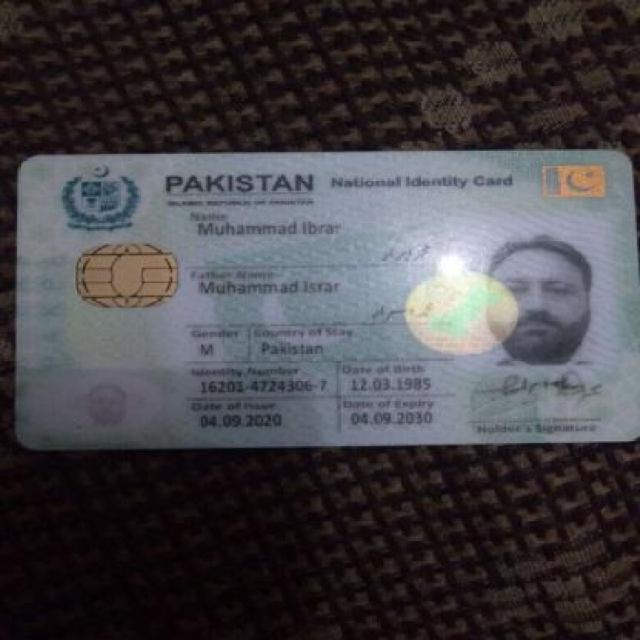Front: (9, 143, 636, 457)
